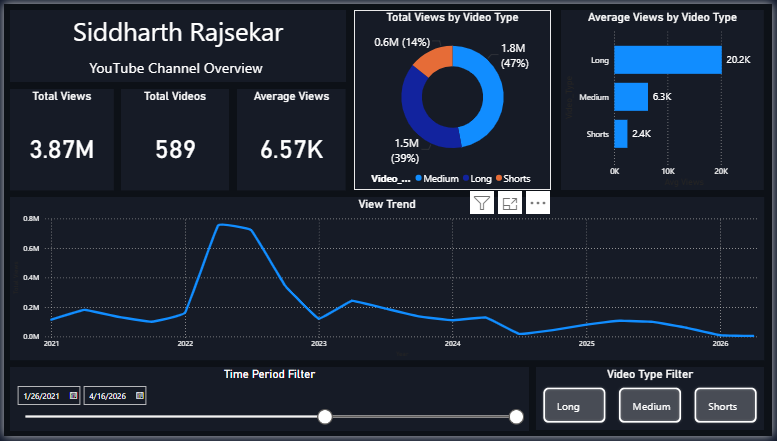

Layout of this report page (visuals, bound fields, positions):
{"tool":"powerbi","page":{"name":"Oveview","canvas":[1280,720],"ordinal":0},"visuals":[{"type":"lineChart","title":"View Trend","fields":{"Category":["Calendar.Date.Variation.Date Hierarchy.Year","Calendar.Date.Variation.Date Hierarchy.Quarter","Calendar.Date.Variation.Date Hierarchy.Month","Calendar.Date.Variation.Date Hierarchy.Day"],"Y":["All Measures.Total Views"]},"box":[10,321.7,1256.7,271.7],"z":0},{"type":"card","title":"Total Views","fields":{"Values":["All Measures.Total Views"]},"box":[10,142,172.9,168.6],"z":1000},{"type":"card","title":"Total Videos","fields":{"Values":["CountNonNull(Siddharth_Rajsekar_channel_data_final_20260417.Title)"]},"box":[195.6,142.2,180,168.7],"z":2000},{"type":"card","title":"Average Views","fields":{"Values":["All Measures.Avg Views"]},"box":[388.3,142.2,181.4,168.7],"z":3000},{"type":"donutChart","title":"Total Views by Video Type","fields":{"Category":["Siddharth_Rajsekar_channel_data_final_20260417.Video_Type"],"Y":["Sum(Siddharth_Rajsekar_channel_data_final_20260417.Views)"]},"box":[583.3,10,328.3,300],"z":4000},{"type":"clusteredBarChart","title":"Average Views by Video Type","fields":{"Y":["All Measures.Avg Views"],"Category":["Siddharth_Rajsekar_channel_data_final_20260417.Video_Type"]},"box":[928.3,10,338.3,300],"z":5000},{"type":"slicer","title":"Time Period Filter","fields":{"Values":["Calendar.Date_Only"]},"box":[10,604.3,865,105],"z":6000},{"type":"textbox","box":[10,10,560,120],"z":7000},{"type":"advancedSlicerVisual","title":"Video Type Filter","fields":{"Values":["Siddharth_Rajsekar_channel_data_final_20260417.Video_Type"]},"box":[886.7,604.3,380,105],"z":8000}]}

Visuals, with their boxes in screenshot pixels (x1, y1, x2, y2), scaled from the page's 1280x720 canvas onto the 777x441 screenshot:
"View Trend" lineChart: bbox(6, 197, 769, 363)
"Total Views" card: bbox(6, 87, 111, 190)
"Total Videos" card: bbox(119, 87, 228, 190)
"Average Views" card: bbox(236, 87, 346, 190)
"Total Views by Video Type" donutChart: bbox(354, 6, 553, 190)
"Average Views by Video Type" clusteredBarChart: bbox(564, 6, 769, 190)
"Time Period Filter" slicer: bbox(6, 370, 531, 434)
textbox: bbox(6, 6, 346, 80)
"Video Type Filter" advancedSlicerVisual: bbox(538, 370, 769, 434)
